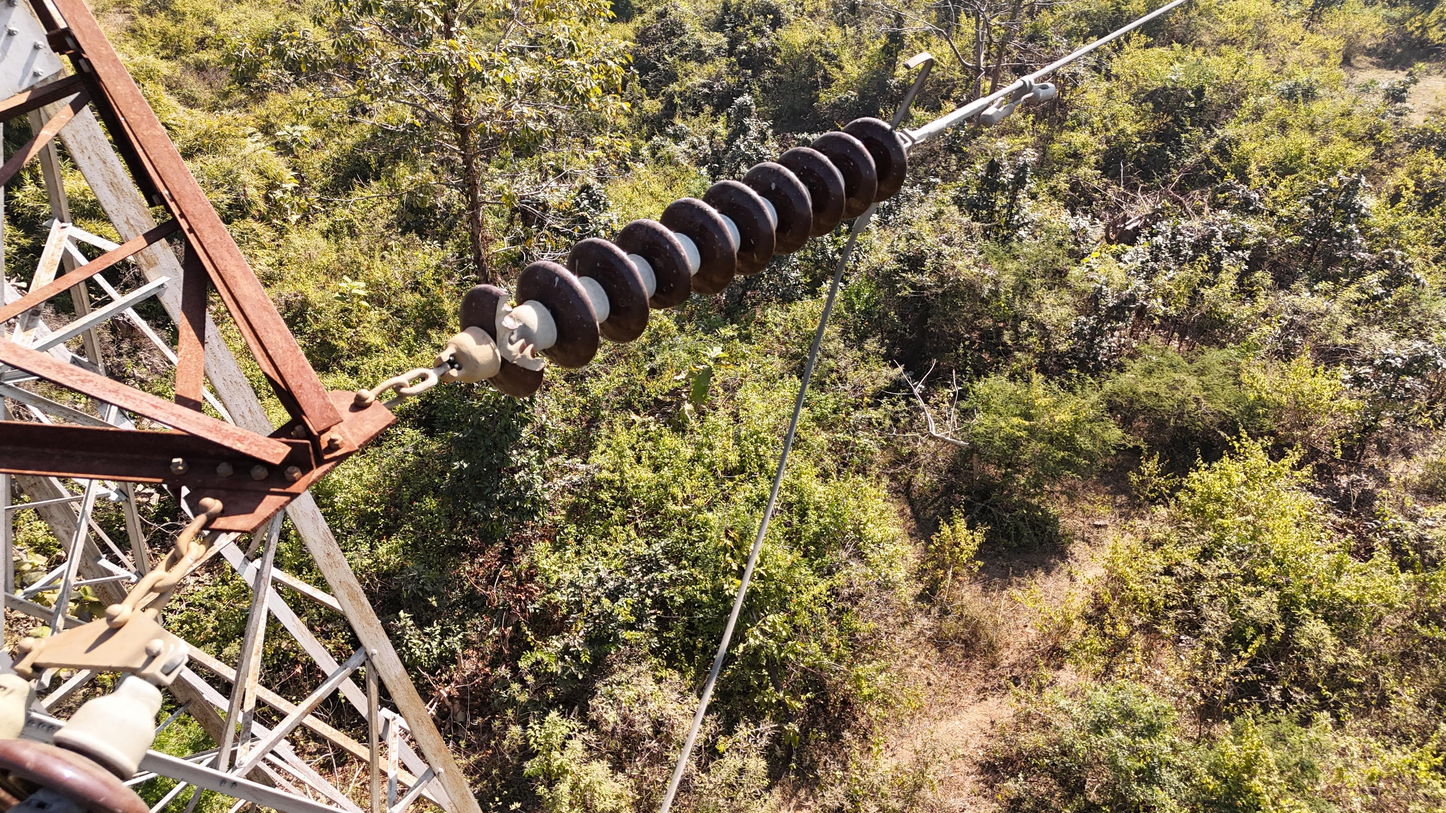broken_insulator: (458, 282, 547, 400)
